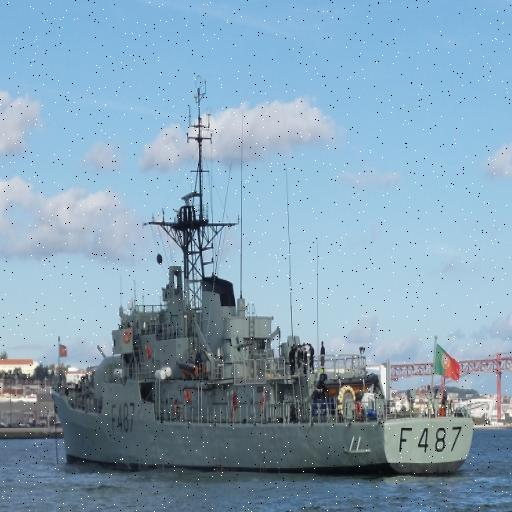Fragata: (41, 70, 482, 483)
